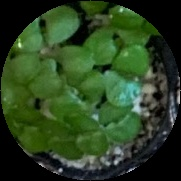Basil: (0, 7, 83, 49), (102, 46, 153, 106), (86, 18, 149, 62), (8, 50, 58, 101), (57, 53, 106, 94), (68, 109, 108, 154), (103, 98, 142, 143), (7, 101, 40, 151), (49, 121, 84, 162)
